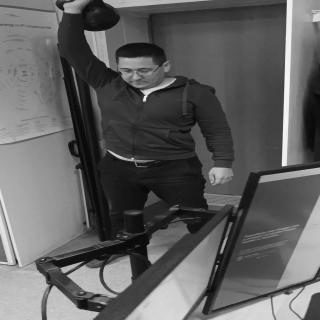girya: (56, 1, 122, 33)
